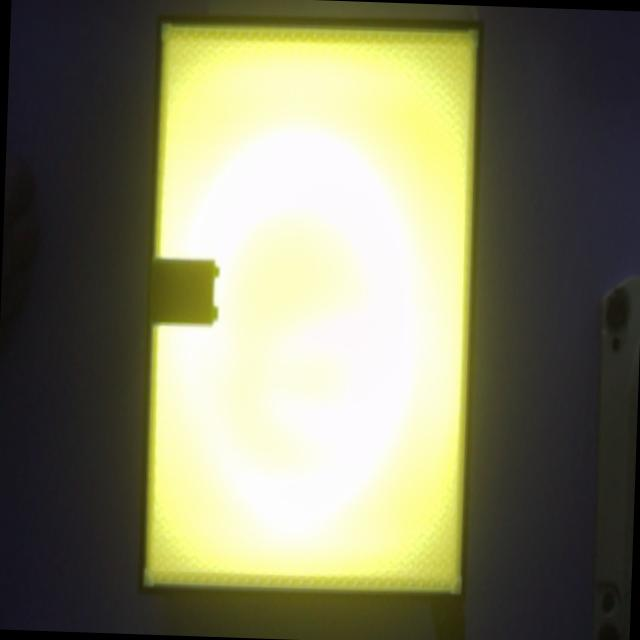Bateria: (149, 258, 214, 324)
Mesa: (138, 16, 484, 602)
Pestana: (213, 306, 218, 319), (214, 265, 219, 277)
